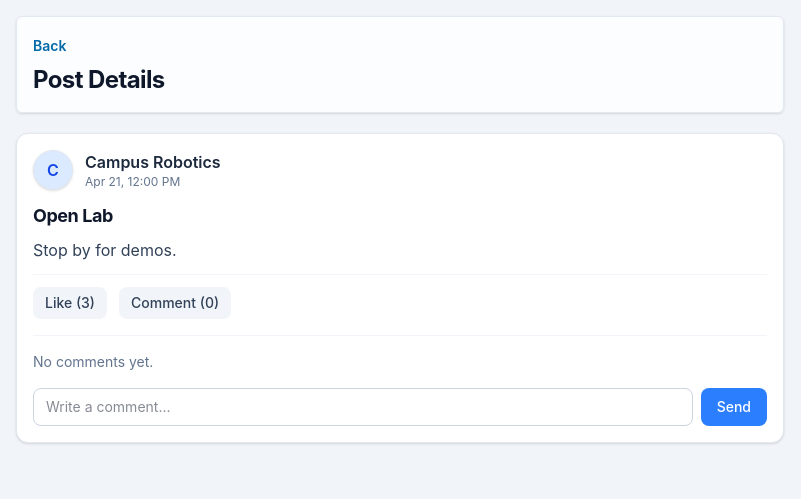
PostDetailsPage › persists comments from the details page controls
This screenshot has width=801, height=499.
Type "Looking forward to it" into the field with placeholder "Write a comment...". click: point(363, 407)
box: x1=33 y1=388 x2=693 y2=426
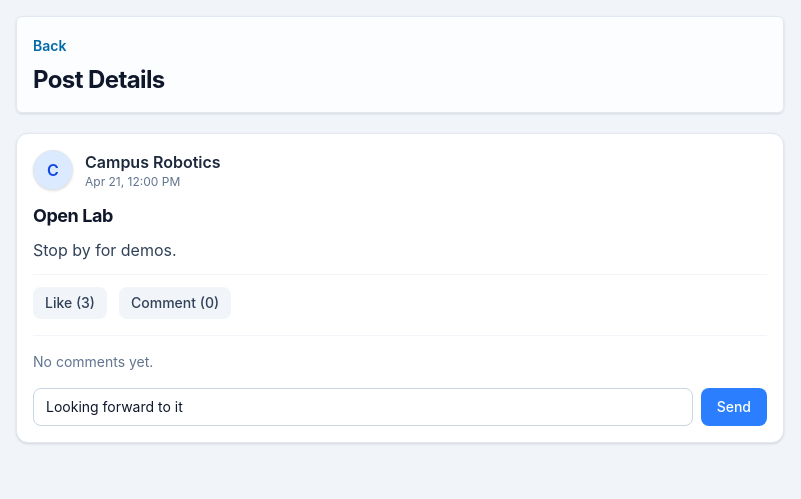
Click the button "Send". click: point(734, 407)
box: x1=701 y1=388 x2=767 y2=426
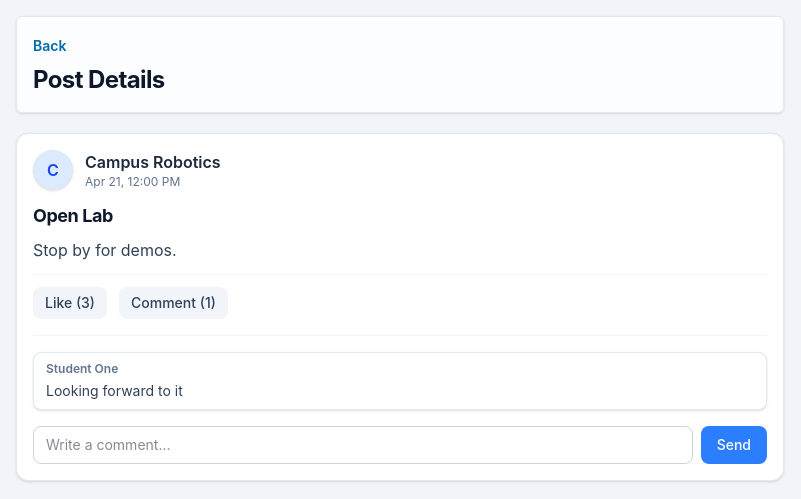
Now the text "Looking forward to it" is shown, box x1=46 y1=382 x2=183 y2=399
